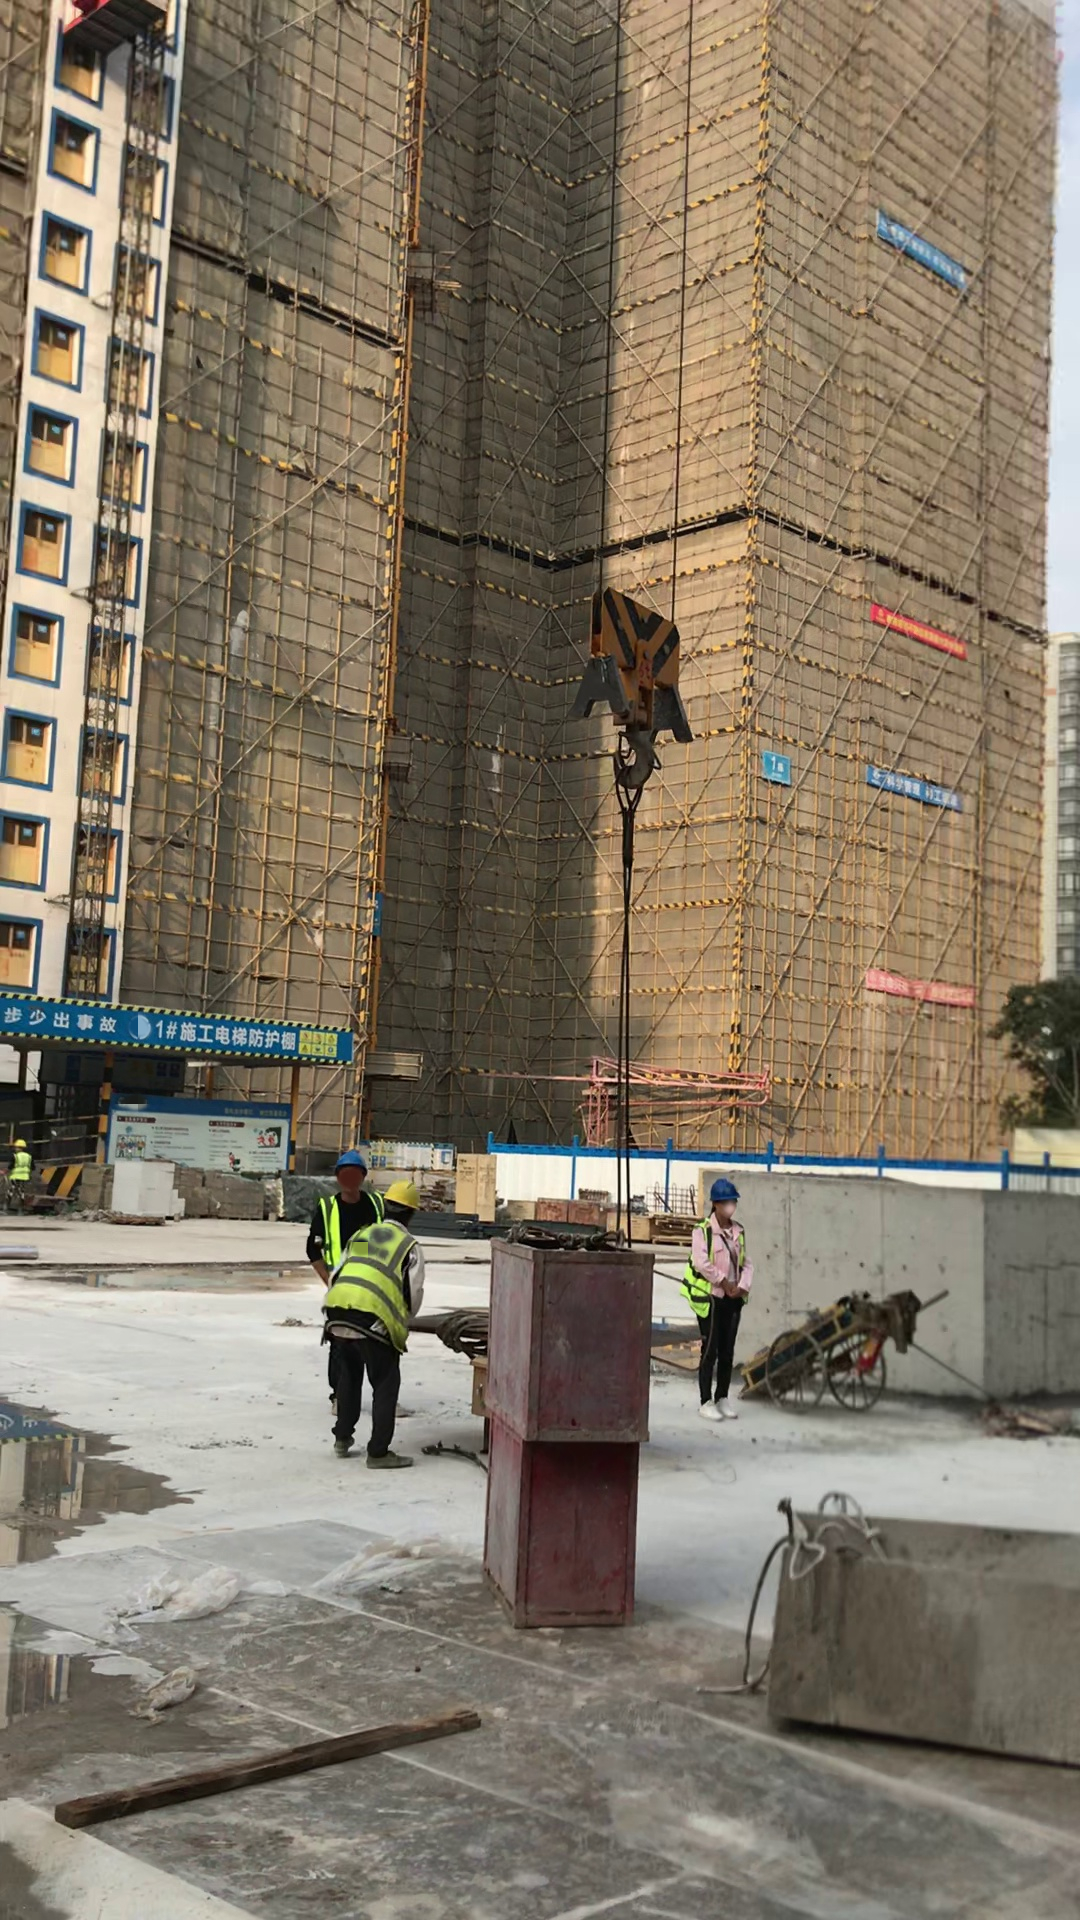brick: (90, 1141, 194, 1226)
ebox: (454, 1331, 500, 1418)
fence: (2, 1113, 119, 1182)
handcart: (730, 1262, 951, 1439)
helmet: (702, 1173, 758, 1206), (384, 1177, 422, 1215), (331, 1148, 369, 1175), (6, 1133, 36, 1150)
hook: (554, 560, 728, 862)
hopper: (728, 1484, 1080, 1783)
person: (309, 1171, 459, 1446), (678, 1136, 763, 1411), (293, 1113, 384, 1319), (4, 1137, 41, 1219)
slogan: (1, 973, 374, 1079), (95, 1086, 295, 1188), (857, 192, 974, 337), (846, 956, 995, 1035), (855, 599, 974, 677), (853, 748, 972, 822), (742, 743, 814, 814)
vest: (321, 1217, 416, 1356), (674, 1215, 756, 1321), (310, 1186, 380, 1266), (7, 1152, 34, 1185)
wood: (167, 1160, 270, 1225), (72, 1159, 114, 1210)
